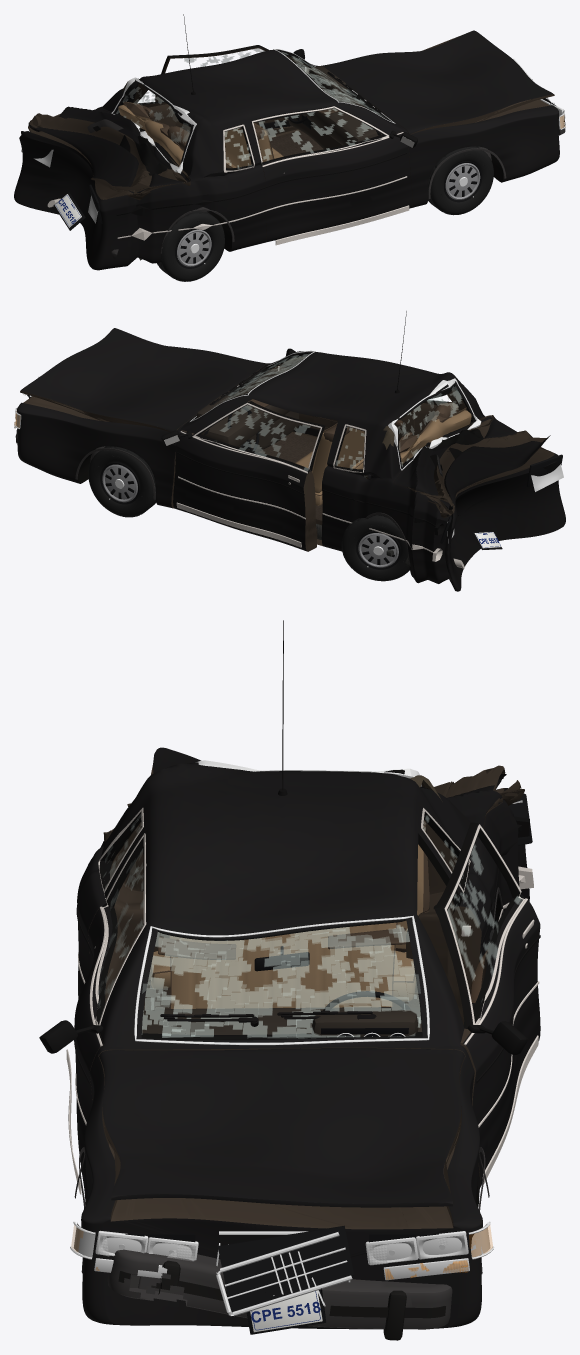
Rendered from coupe84_rear_d2.glb.
3 views of the same model, one above another, from view 1: azimuth 30°, elevation 25°; view 2: azimuth 150°, elevation 25°; view 3: azimuth 270°, elevation 25° (orthographic). The views are drawn at different scales.
Parts seen in each view (by area): view 1: Body, Hood, Door_FR, Trunk, Interior, Wheel_RR_mesh, Wheel_FR_mesh, Glass, Trim_FR, Trim, Ends, Glass_FR (+1 smaller); view 2: Body, Hood, Door_FL, Interior, Trunk, Wheel_FL_mesh, Wheel_RL_mesh, Glass, Trim_FL, Trim, Ends, Glass_FL (+1 smaller); view 3: Body, Hood, Interior, Glass, Ends, Door_FL, Bumper_F, Door_FR, Trim_FL, Trim, Trim_FR, Trunk (+3 smaller).
Part boxes in pixels (x1=…): Body: x1=14, y1=49, x2=559, y2=270; Hood: x1=321, y1=30, x2=554, y2=134; Door_FR: x1=251, y1=105, x2=412, y2=242; Trunk: x1=28, y1=106, x2=187, y2=193; Interior: x1=118, y1=66, x2=381, y2=168; Wheel_RR_mesh: x1=157, y1=211, x2=224, y2=281; Wheel_FR_mesh: x1=428, y1=146, x2=493, y2=215; Glass: x1=111, y1=49, x2=395, y2=173; Trim_FR: x1=251, y1=106, x2=417, y2=245; Trim: x1=116, y1=14, x2=506, y2=253; Ends: x1=21, y1=58, x2=565, y2=230; Glass_FR: x1=252, y1=106, x2=385, y2=167; Body: x1=17, y1=351, x2=565, y2=591; Hood: x1=20, y1=328, x2=267, y2=431; Door_FL: x1=173, y1=401, x2=325, y2=551; Interior: x1=196, y1=371, x2=471, y2=505; Trunk: x1=393, y1=417, x2=550, y2=509; Wheel_FL_mesh: x1=88, y1=446, x2=156, y2=517; Wheel_RL_mesh: x1=341, y1=515, x2=409, y2=581; Glass: x1=190, y1=350, x2=481, y2=473; Trim_FL: x1=161, y1=403, x2=322, y2=547; Trim: x1=75, y1=311, x2=444, y2=566; Ends: x1=14, y1=376, x2=563, y2=549; Glass_FL: x1=197, y1=402, x2=322, y2=474; Body: x1=77, y1=762, x2=529, y2=1329; Hood: x1=99, y1=1048, x2=465, y2=1207; Interior: x1=142, y1=820, x2=429, y2=1037; Glass: x1=103, y1=760, x2=469, y2=1045; Ends: x1=70, y1=793, x2=532, y2=1334; Door_FL: x1=433, y1=822, x2=540, y2=1187; Bumper_F: x1=107, y1=1249, x2=452, y2=1340; Door_FR: x1=74, y1=832, x2=147, y2=1187; Trim_FL: x1=444, y1=824, x2=540, y2=1183; Trim: x1=74, y1=620, x2=533, y2=1273; Trim_FR: x1=39, y1=833, x2=146, y2=1194; Trunk: x1=109, y1=747, x2=506, y2=833.
Size of the model in its own units: 4.82 by 2.18 by 2.18.
Materials: 33 (5 with a texture image).
